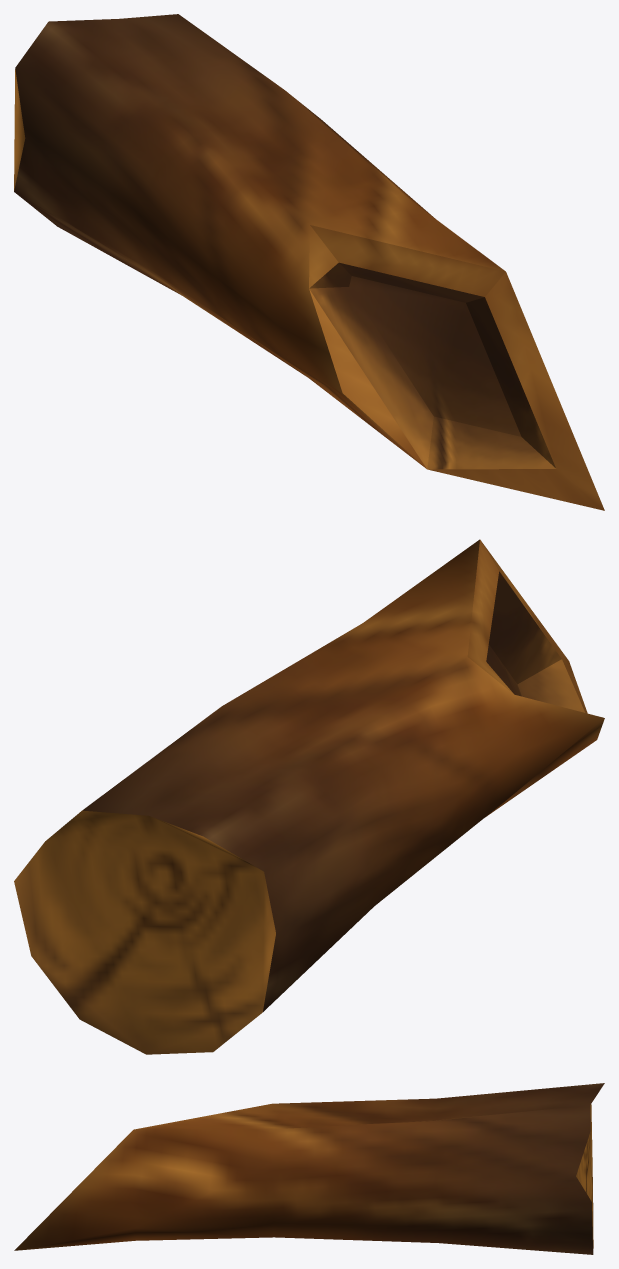
Rendered from wood_6.fbx.
3 views of the same model, one above another, from view 1: azimuth 30°, elevation 25°; view 2: azimuth 150°, elevation 25°; view 3: azimuth 270°, elevation 25° (orthographic). The views are drawn at different scales.
Parts seen in each view (by area): view 1: wood_6; view 2: wood_6; view 3: wood_6.
Boxes of the visible parts, x1=… form: wood_6: x1=14, y1=14, x2=604, y2=510; wood_6: x1=14, y1=539, x2=604, y2=1054; wood_6: x1=14, y1=1083, x2=604, y2=1254.
Size of the model in its own units: 0.7368 by 0.6804 by 2.53.
